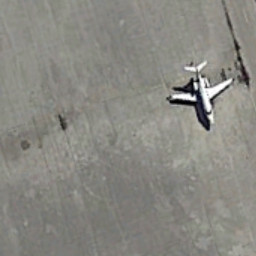Airplane: (160, 56, 236, 129)
